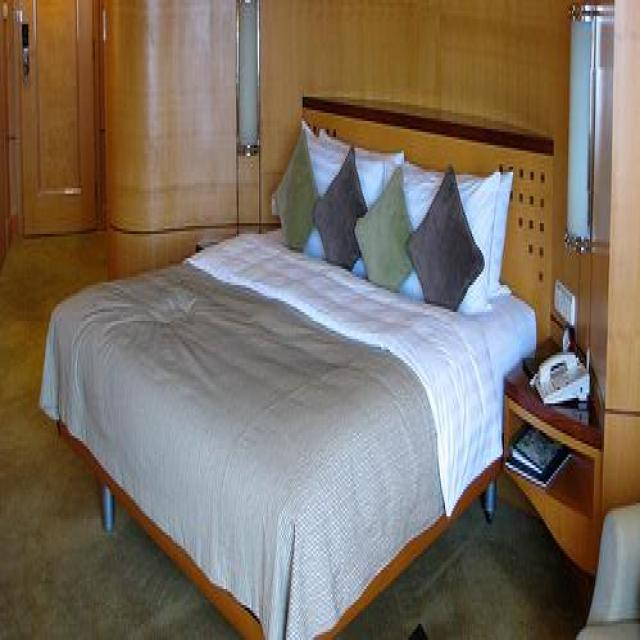bed: (39, 94, 554, 637)
